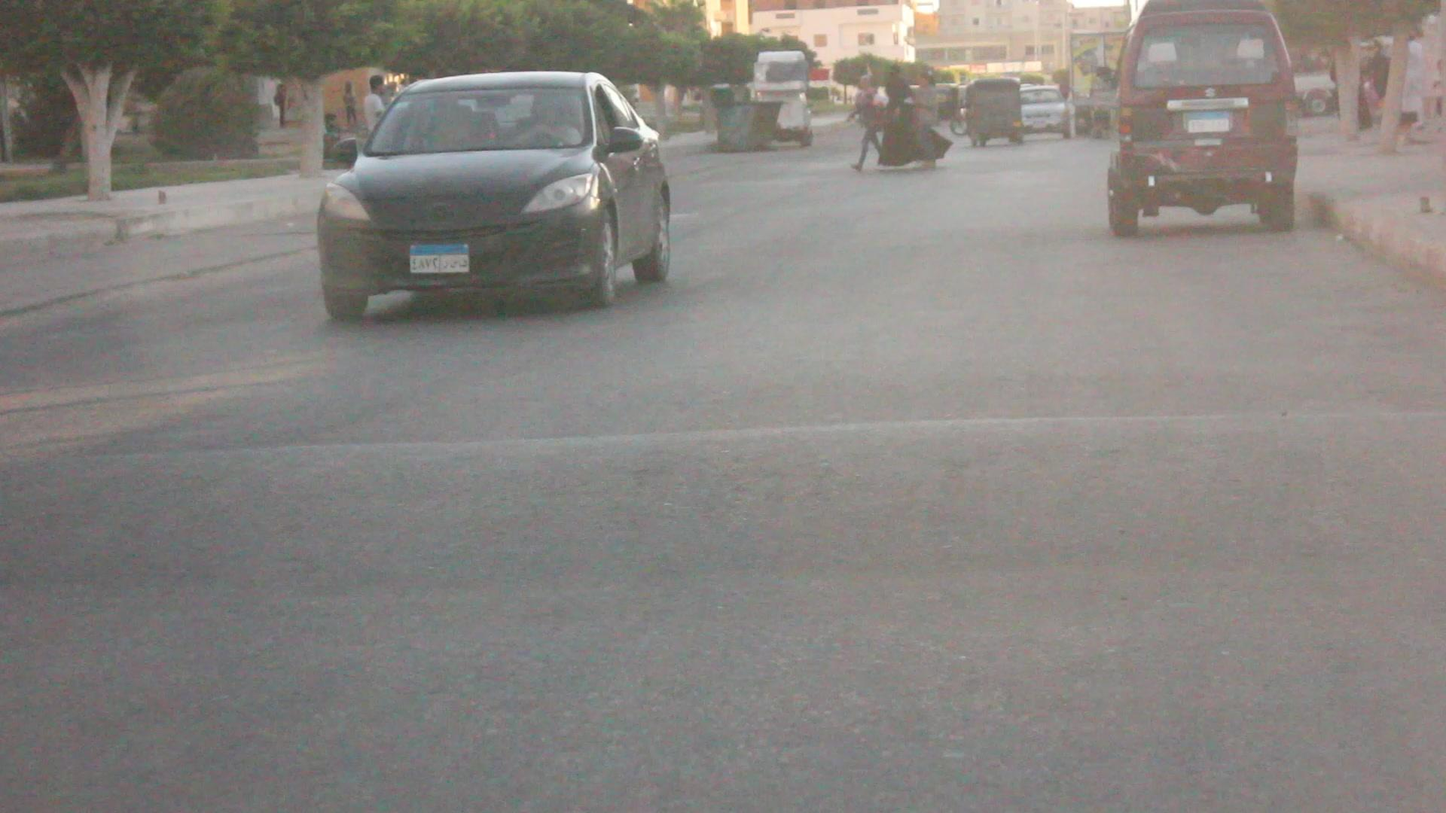Bump: (6, 397, 1445, 585)
